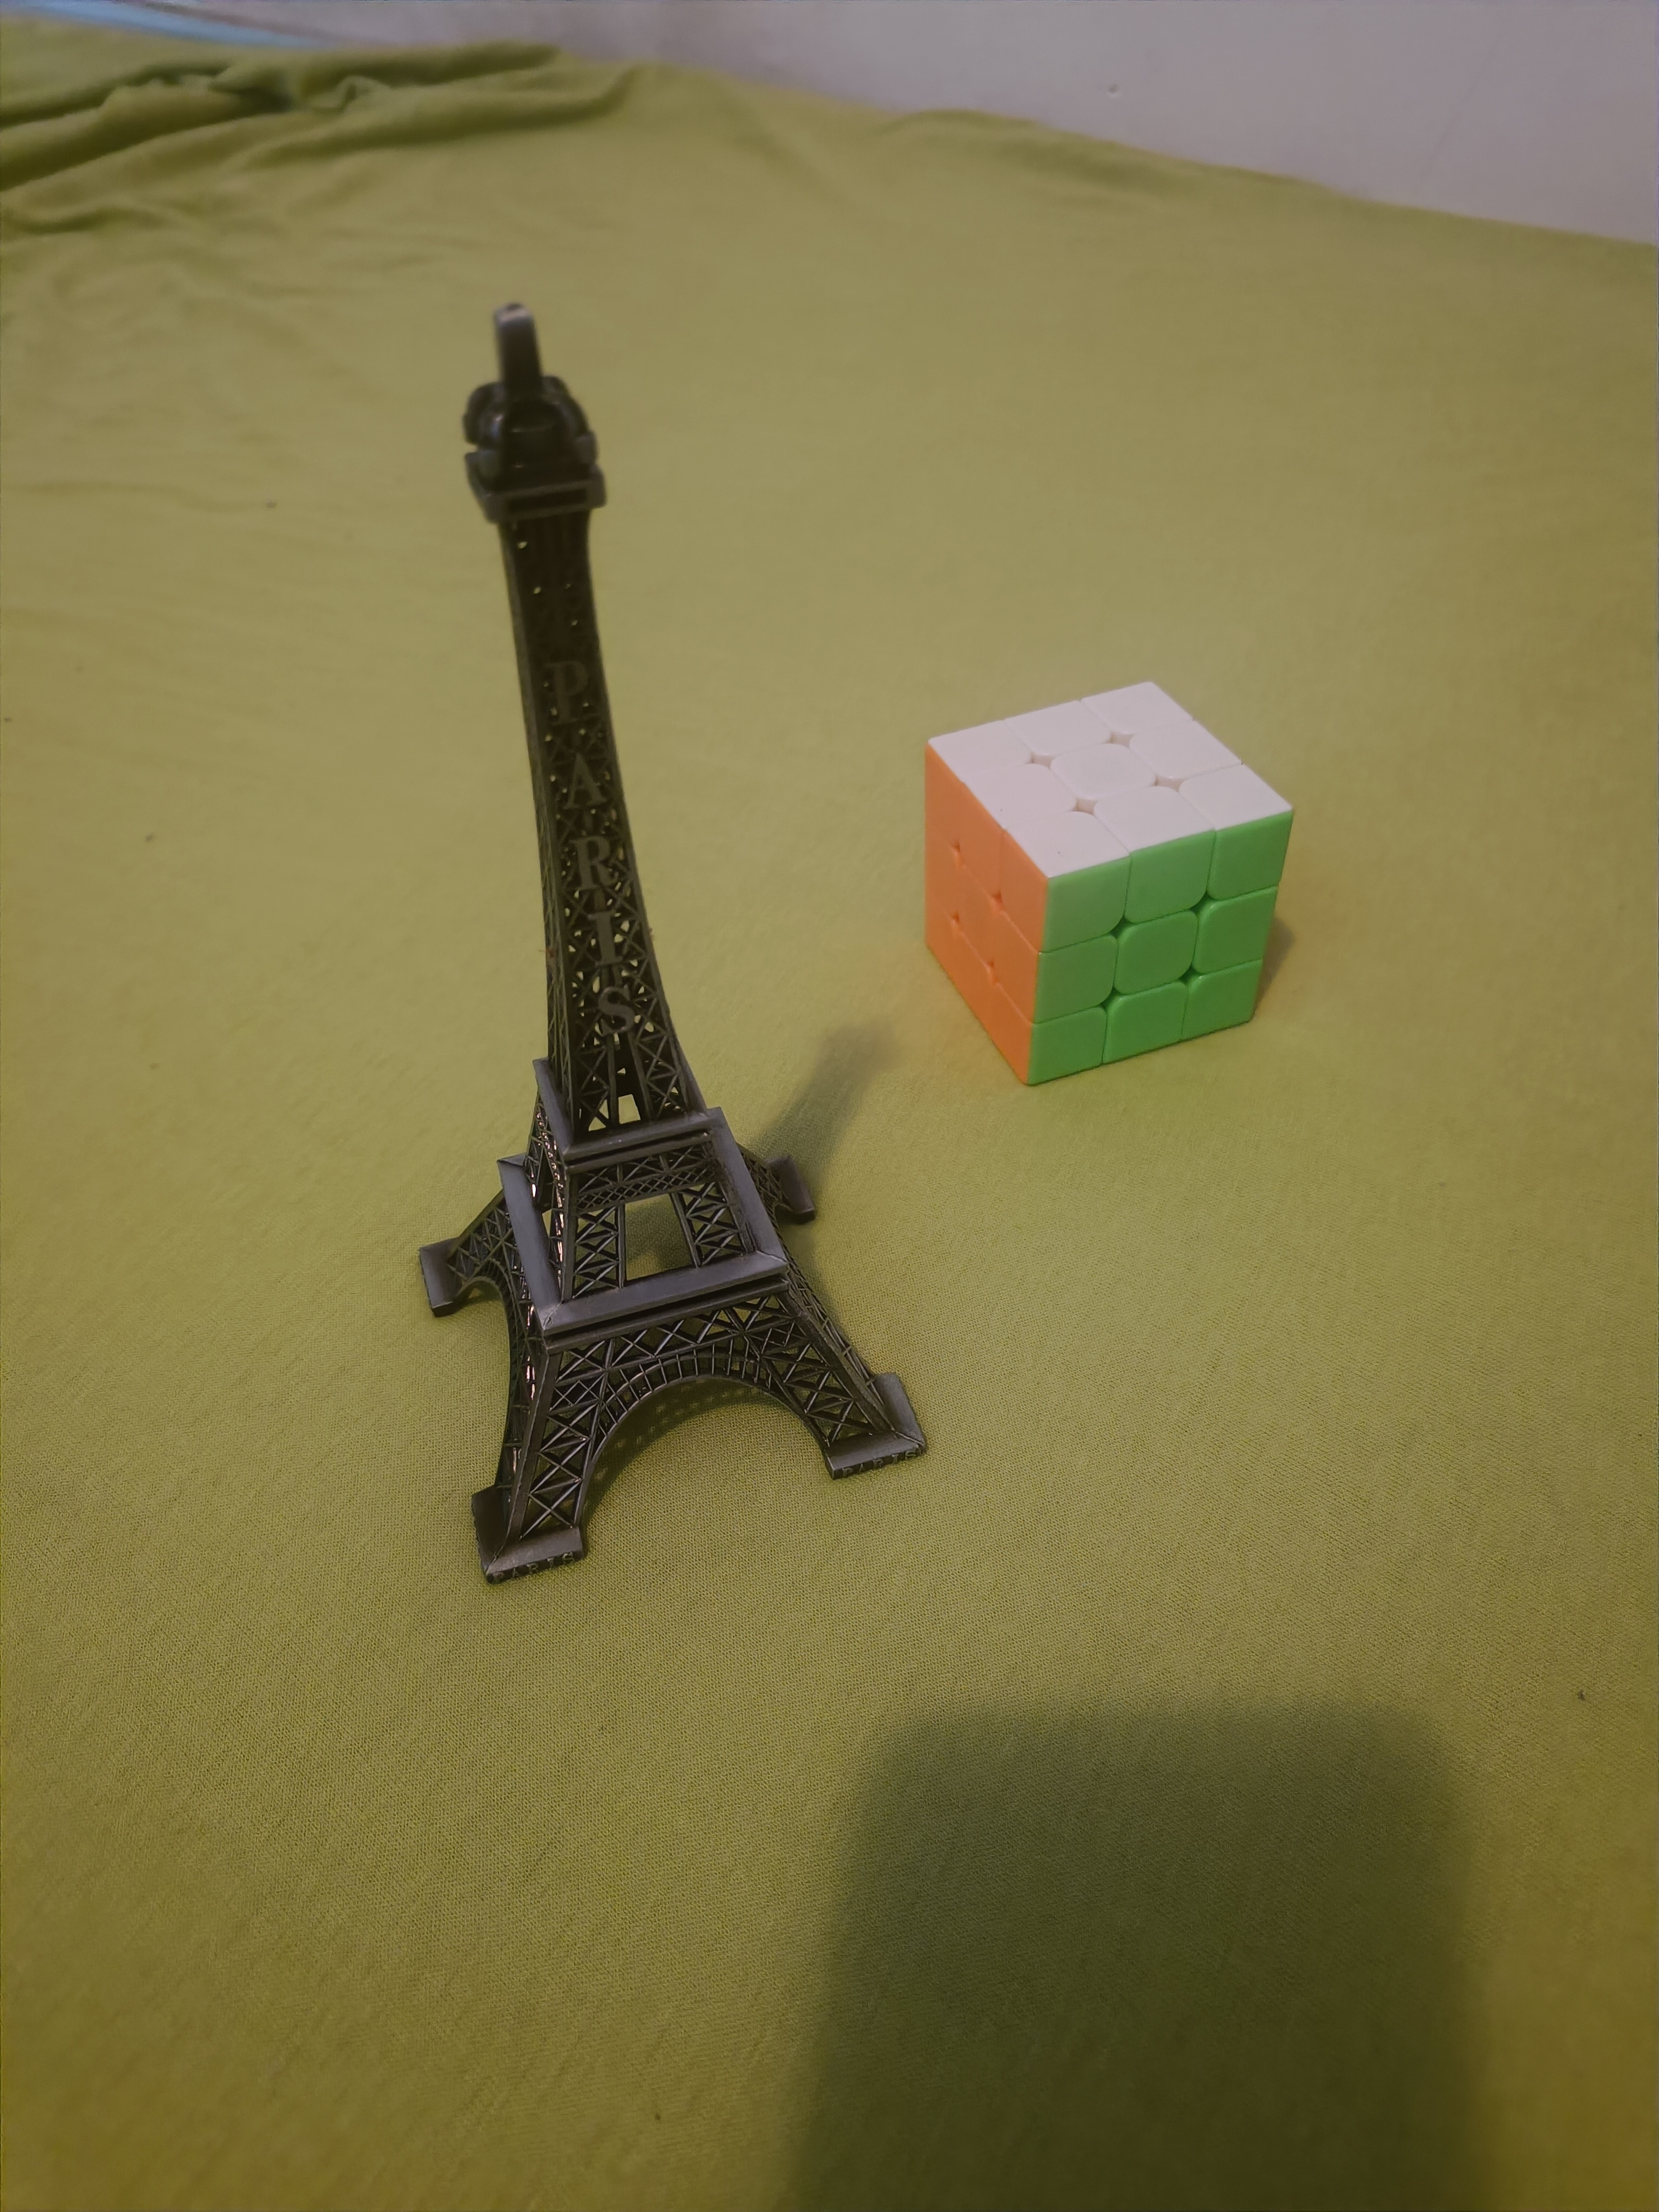Eiffel Tower: (364, 301, 938, 1602)
Rubiks Cube: (911, 671, 1291, 1094)
